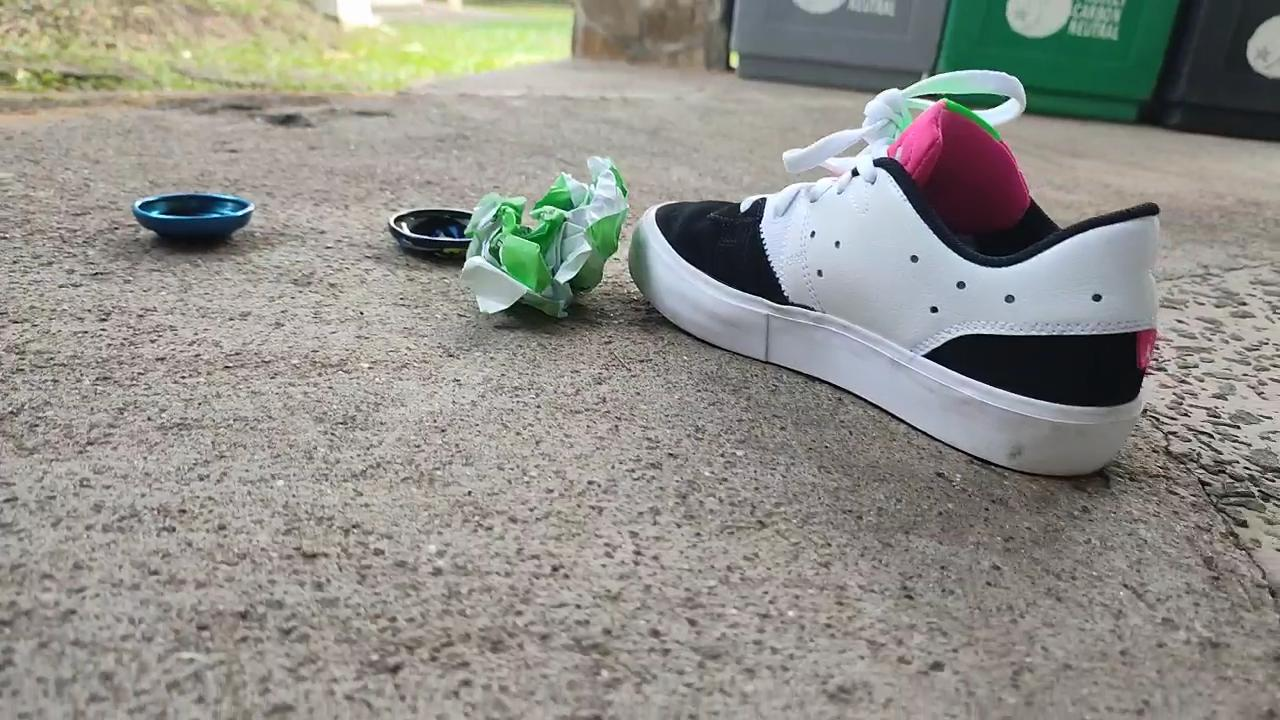Paper: (446, 138, 636, 329)
